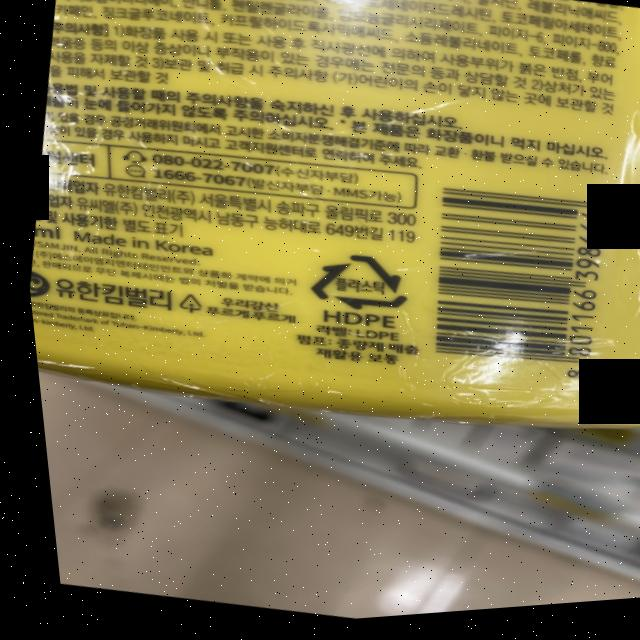Plastic: (294, 245, 414, 330)
